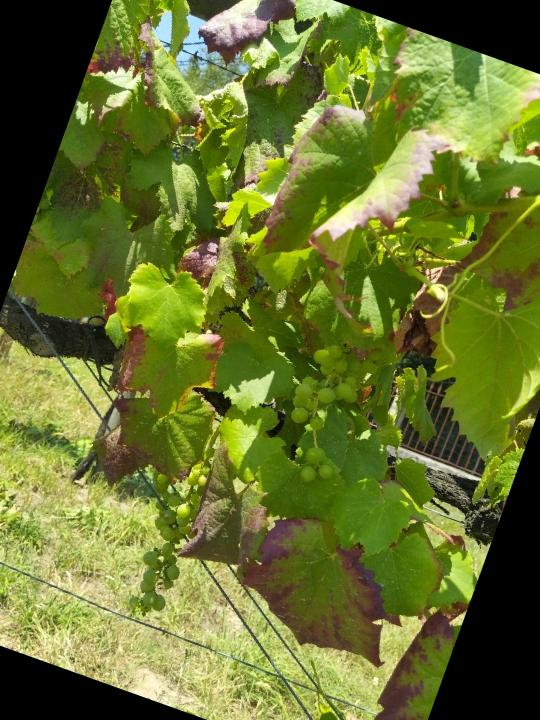grape: (99, 446, 228, 630), (260, 335, 378, 495)
